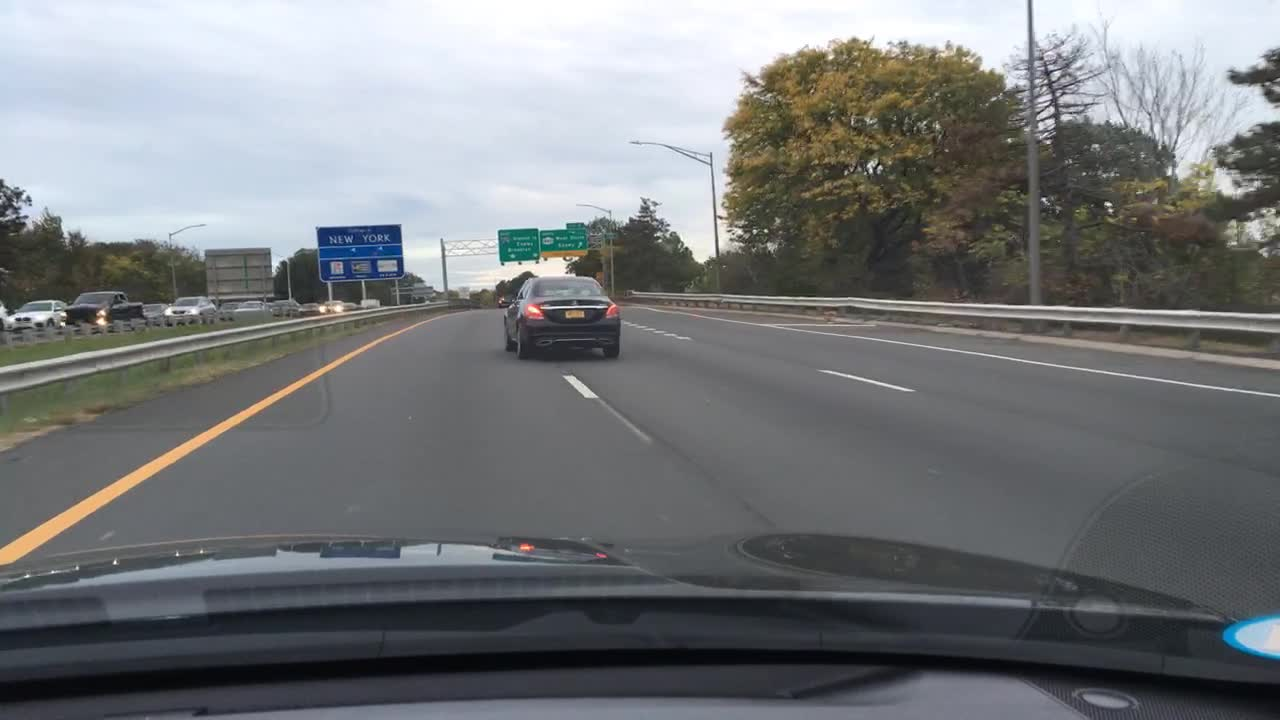car: (503, 274, 621, 360), (63, 289, 144, 327), (4, 298, 69, 335), (161, 296, 215, 324), (268, 298, 299, 318), (141, 302, 169, 321), (236, 302, 266, 319), (127, 300, 146, 323), (213, 302, 236, 320), (296, 302, 324, 315), (317, 299, 344, 312), (0, 299, 7, 343), (497, 293, 516, 308), (360, 298, 380, 308), (342, 301, 359, 309)
traffic sign: (316, 223, 404, 283), (203, 246, 271, 299), (498, 226, 540, 264), (538, 227, 587, 257), (411, 277, 431, 297), (565, 221, 584, 227), (603, 231, 618, 236)
